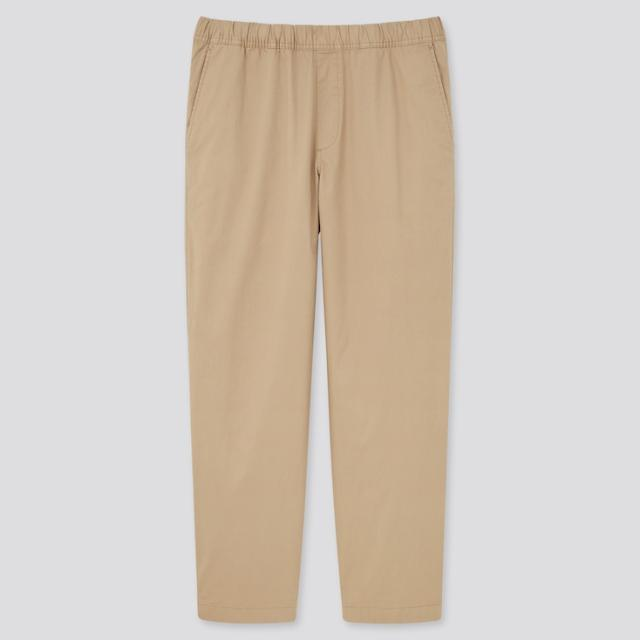long-pants: (184, 17, 456, 629)
